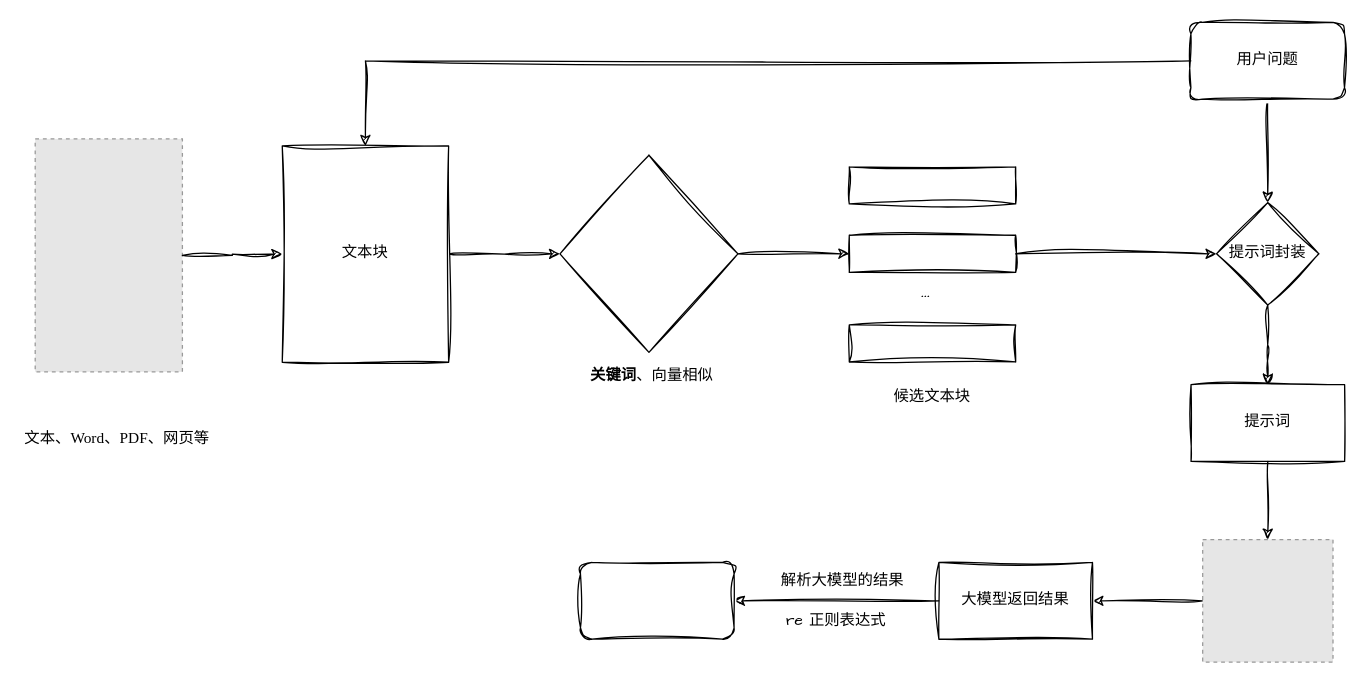
Some shapes in this 1367 by 685 pixel diagram are drawn without their labels. Grey dashed boxes stand in for pictures. The shapes that lost their labels are listed below. From the top down, each one's box as (x1, y1, x2, y2) in pixels, then its label:
(559, 154, 738, 352): 文本块筛选
(579, 561, 734, 639): 指标抽取结果
